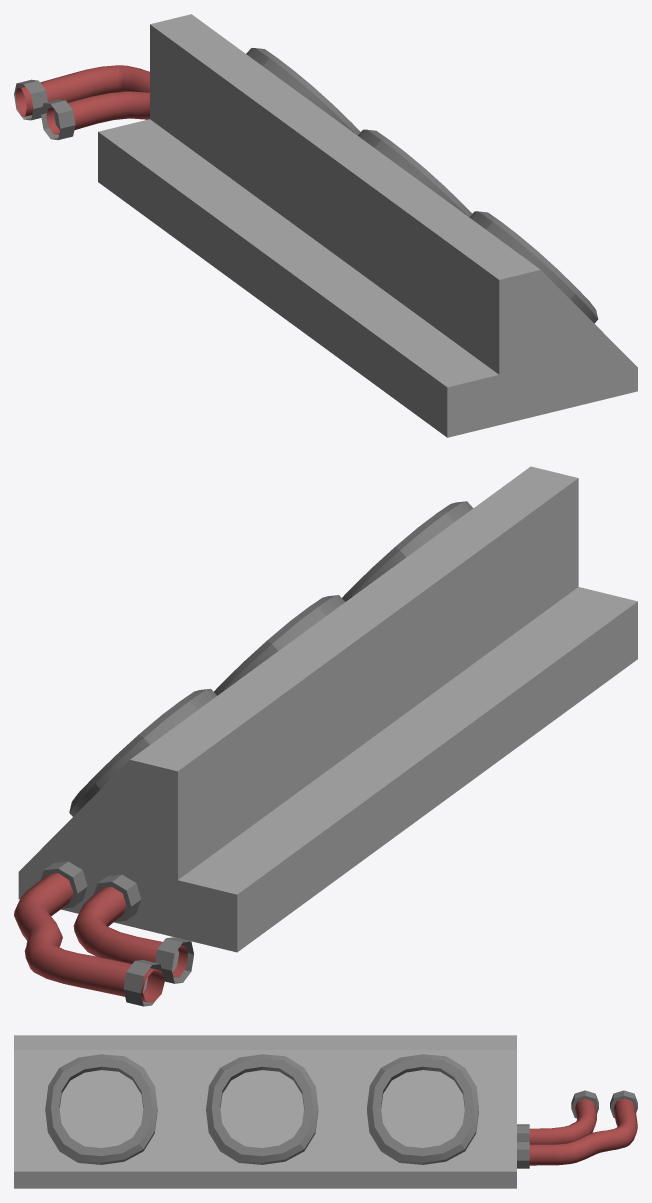
File: geo_button_console.fbx
3 renders of one model, top to bottom at view 1: azimuth 30°, elevation 25°; view 2: azimuth 150°, elevation 25°; view 3: azimuth 270°, elevation 25°, orthographic. The views are drawn at different scales.
Visible parts, largest first — view 1: geo_button_console; view 2: geo_button_console; view 3: geo_button_console.
Part boxes in pixels (x1,y1,x2,y2): geo_button_console: (14,14,637,437); geo_button_console: (14,466,637,1006); geo_button_console: (14,1035,637,1188).
Size of the model in its own units: 34.69 by 24.44 by 132.
